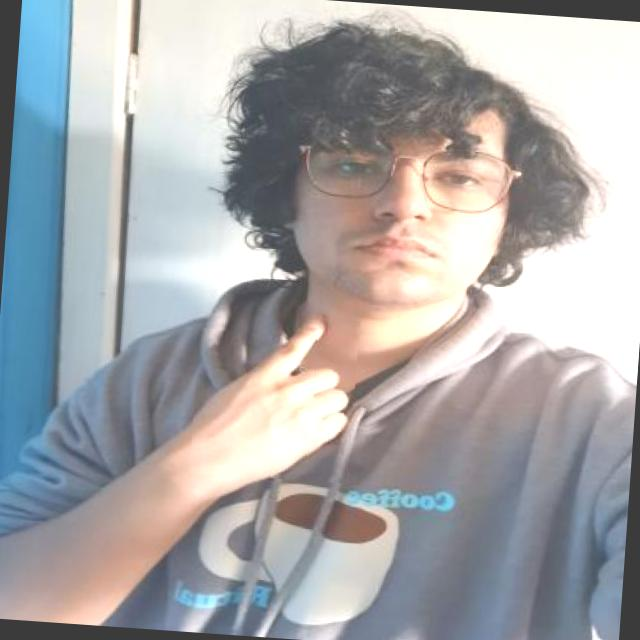Q: (190, 304, 360, 483)
